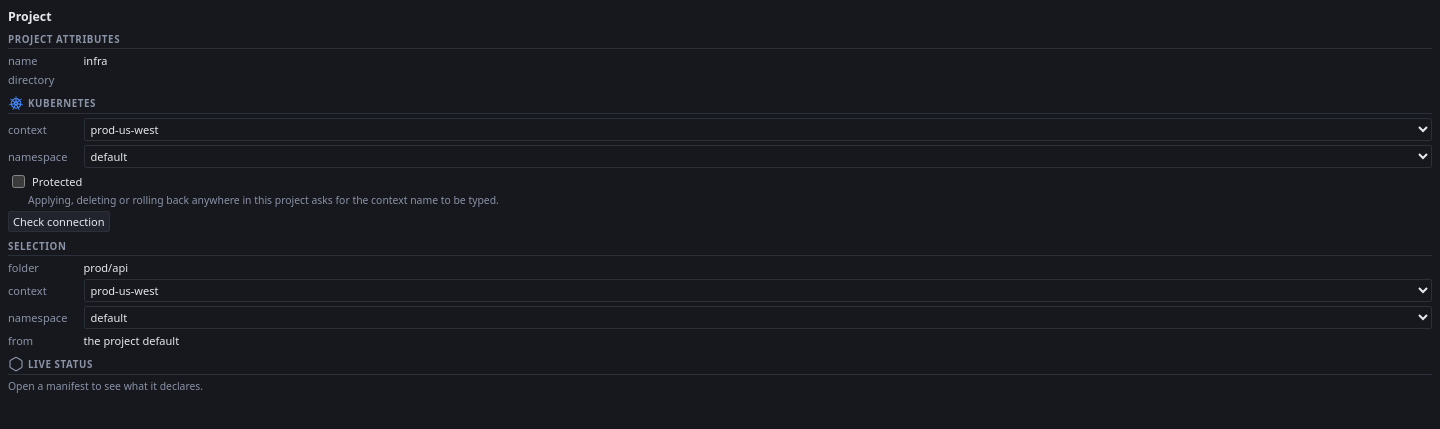
Scenario: the selection › shows the registry's refusal without changing what is on screen
Select "dev-cluster (kubectl's current)" in the dropdown named "selection context": (758, 290) [84,279,1432,302]
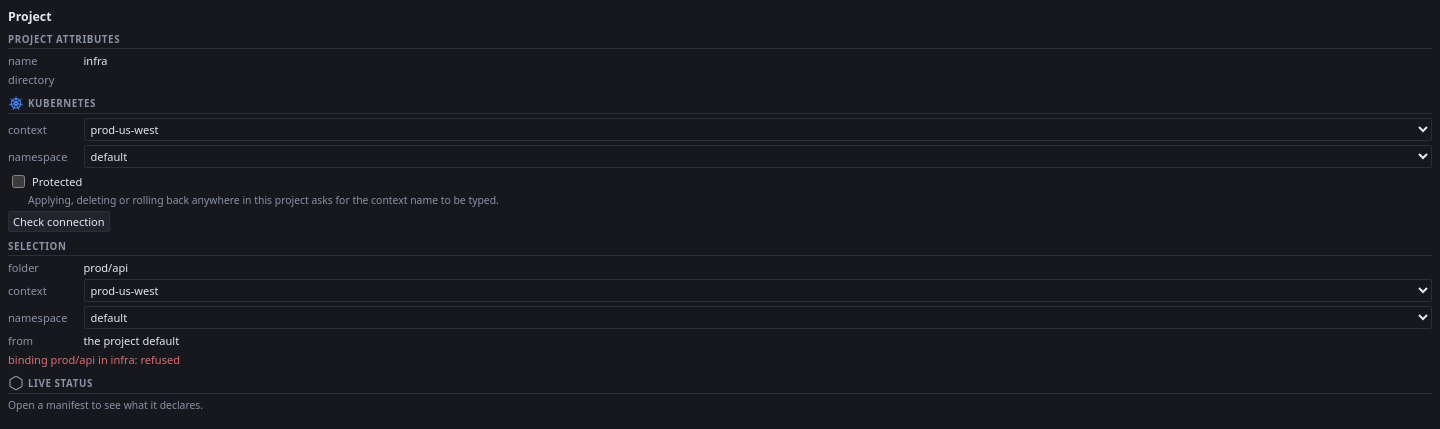
Now the message shows "refused", box [8,352,180,367]
